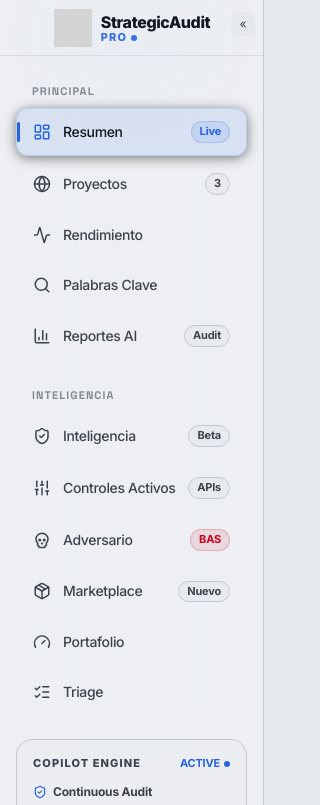
DashboardSidebar › el toggle colapsa y oculta las secciones
The image size is (320, 805).
Click the button titled "Colapsar sidebar" at (243, 24), box [231,12,255,36]
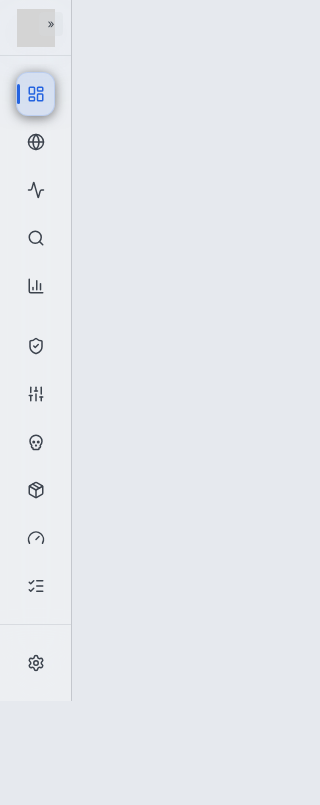
Now the heading "Principal" is gone
